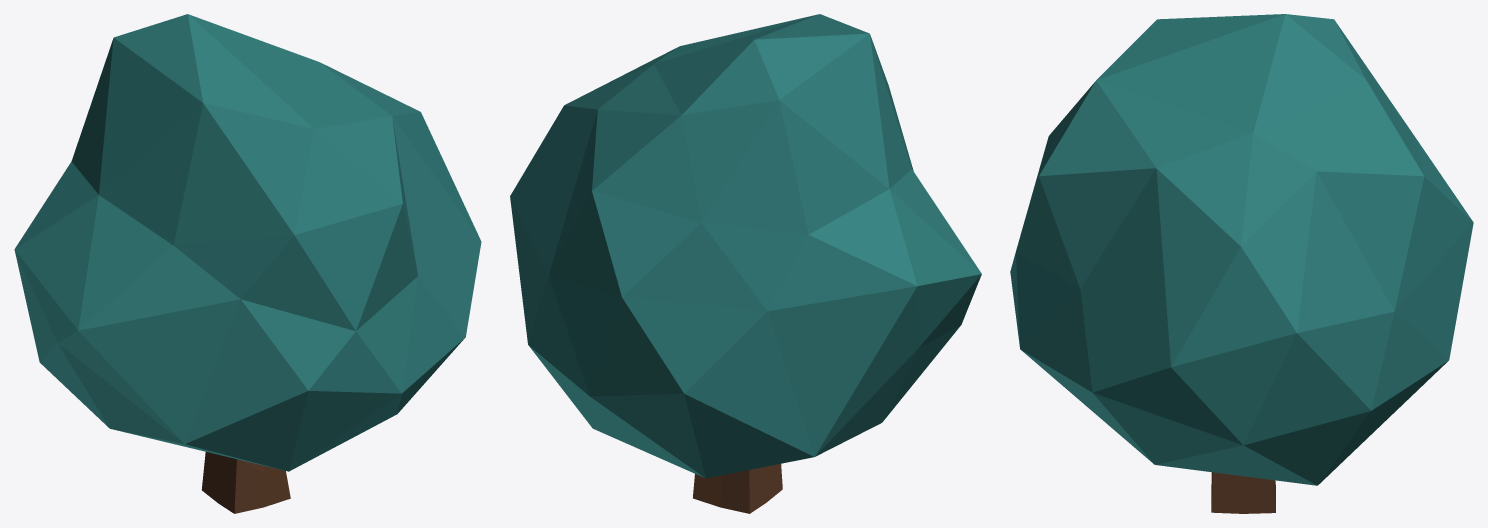
Rendered from Tree_3_Blue.fbx.
The picture shows the model from 3 angles, left to right: view 1: azimuth 30°, elevation 25°; view 2: azimuth 150°, elevation 25°; view 3: azimuth 270°, elevation 25°; orthographic projection. The views are drawn at different scales.
Visible parts, largest first — view 1: Tree_3_Blue_Part_1, Tree_3_Blue_Part_2; view 2: Tree_3_Blue_Part_1, Tree_3_Blue_Part_2; view 3: Tree_3_Blue_Part_1, Tree_3_Blue_Part_2.
Part boxes in pixels (x1,y1,x2,y2): Tree_3_Blue_Part_1: (14,14,481,471); Tree_3_Blue_Part_2: (201,452,290,513); Tree_3_Blue_Part_1: (510,14,981,478); Tree_3_Blue_Part_2: (693,464,782,513); Tree_3_Blue_Part_1: (1010,14,1473,485); Tree_3_Blue_Part_2: (1211,472,1275,513).
Bounding box in the file's own units: 714 × 807 × 720.
